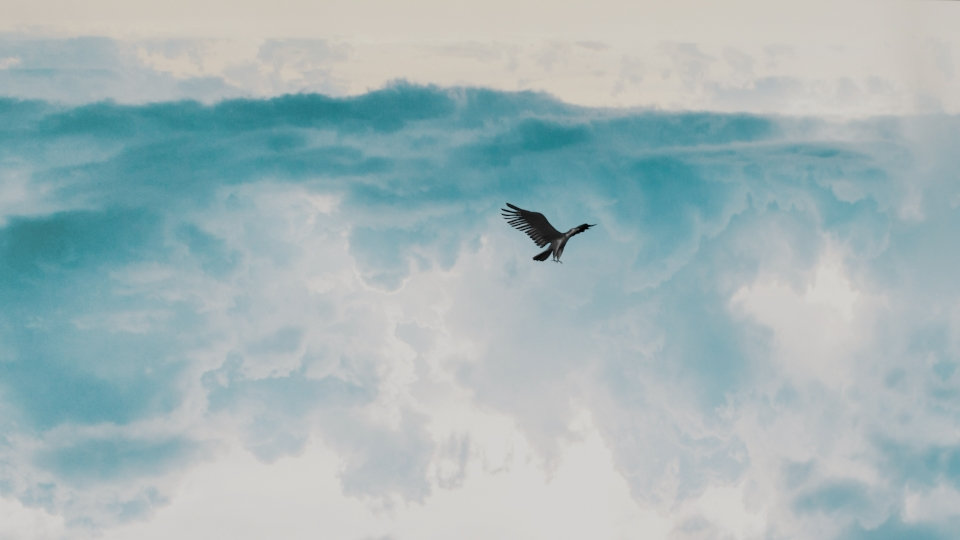bird: (502, 198, 597, 269)
